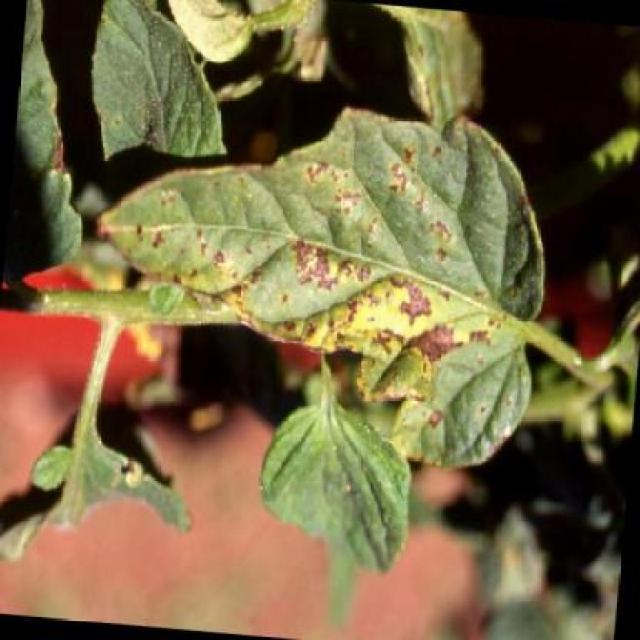Tomato leaf bacterial spot: (103, 182, 568, 369)
